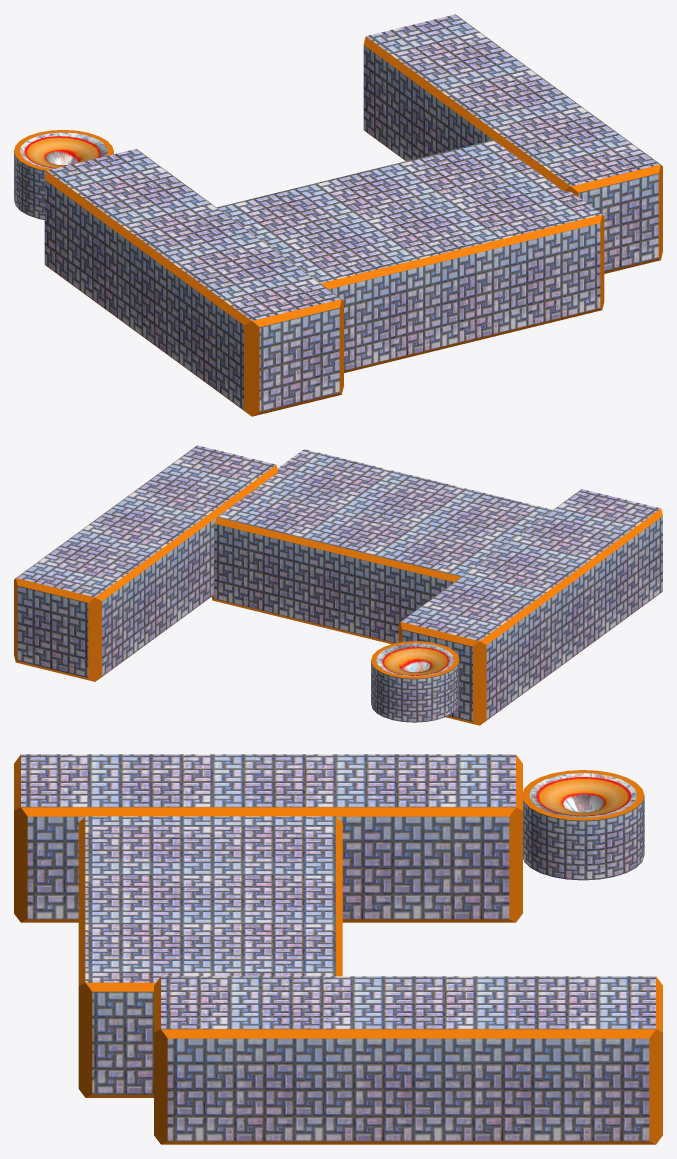
Rendered from Level04.fbx.
3 renders of one model, top to bottom at view 1: azimuth 30°, elevation 25°; view 2: azimuth 150°, elevation 25°; view 3: azimuth 270°, elevation 25°, orthographic. The views are drawn at different scales.
Parts seen in each view (by area): view 1: Level04, Level04:Target; view 2: Level04, Level04:Target; view 3: Level04, Level04:Target.
Part boxes in pixels (x1,y1,x2,y2): Level04: (14,14,662,416); Level04:Target: (20,132,107,169); Level04: (14,445,662,725); Level04:Target: (376,643,453,676); Level04: (14,754,662,1144); Level04:Target: (529,773,636,817).
Size of the model in its own units: 15.64 by 3.16 by 15.28.
Materials: 5 (4 with a texture image).
